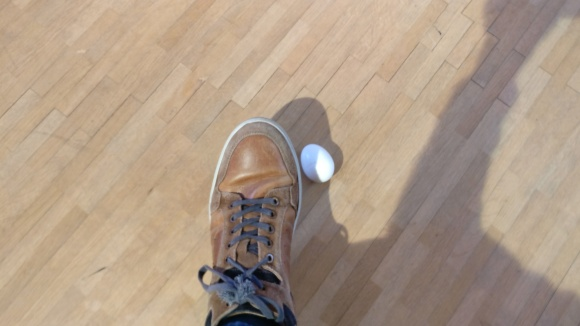egg: (300, 144, 335, 183)
